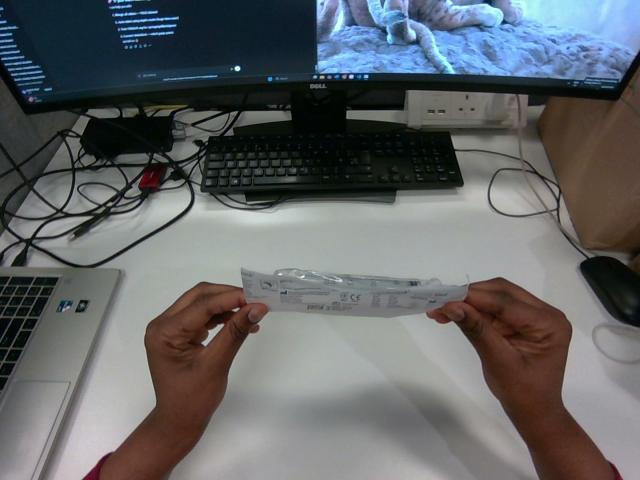syringe: (241, 268, 467, 317)
